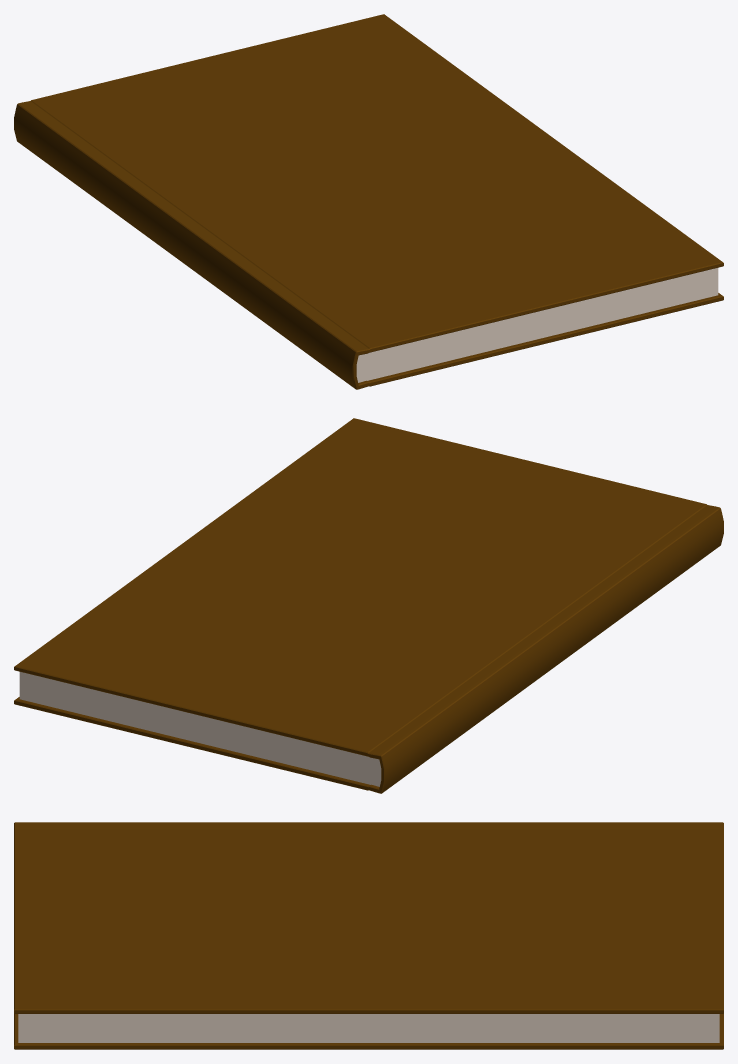
Rendered from Book.fbx.
3 renders of one model, top to bottom at view 1: azimuth 30°, elevation 25°; view 2: azimuth 150°, elevation 25°; view 3: azimuth 270°, elevation 25°, orthographic. The views are drawn at different scales.
Parts seen in each view (by area): view 1: pCube1; view 2: pCube1; view 3: pCube1.
Boxes of the visible parts, left/top/right/bottom form: pCube1: left=14, top=14, right=723, bottom=389; pCube1: left=14, top=418, right=723, bottom=793; pCube1: left=14, top=822, right=723, bottom=1049.
Bounding box in the file's own units: 10.09 × 1 × 16.
